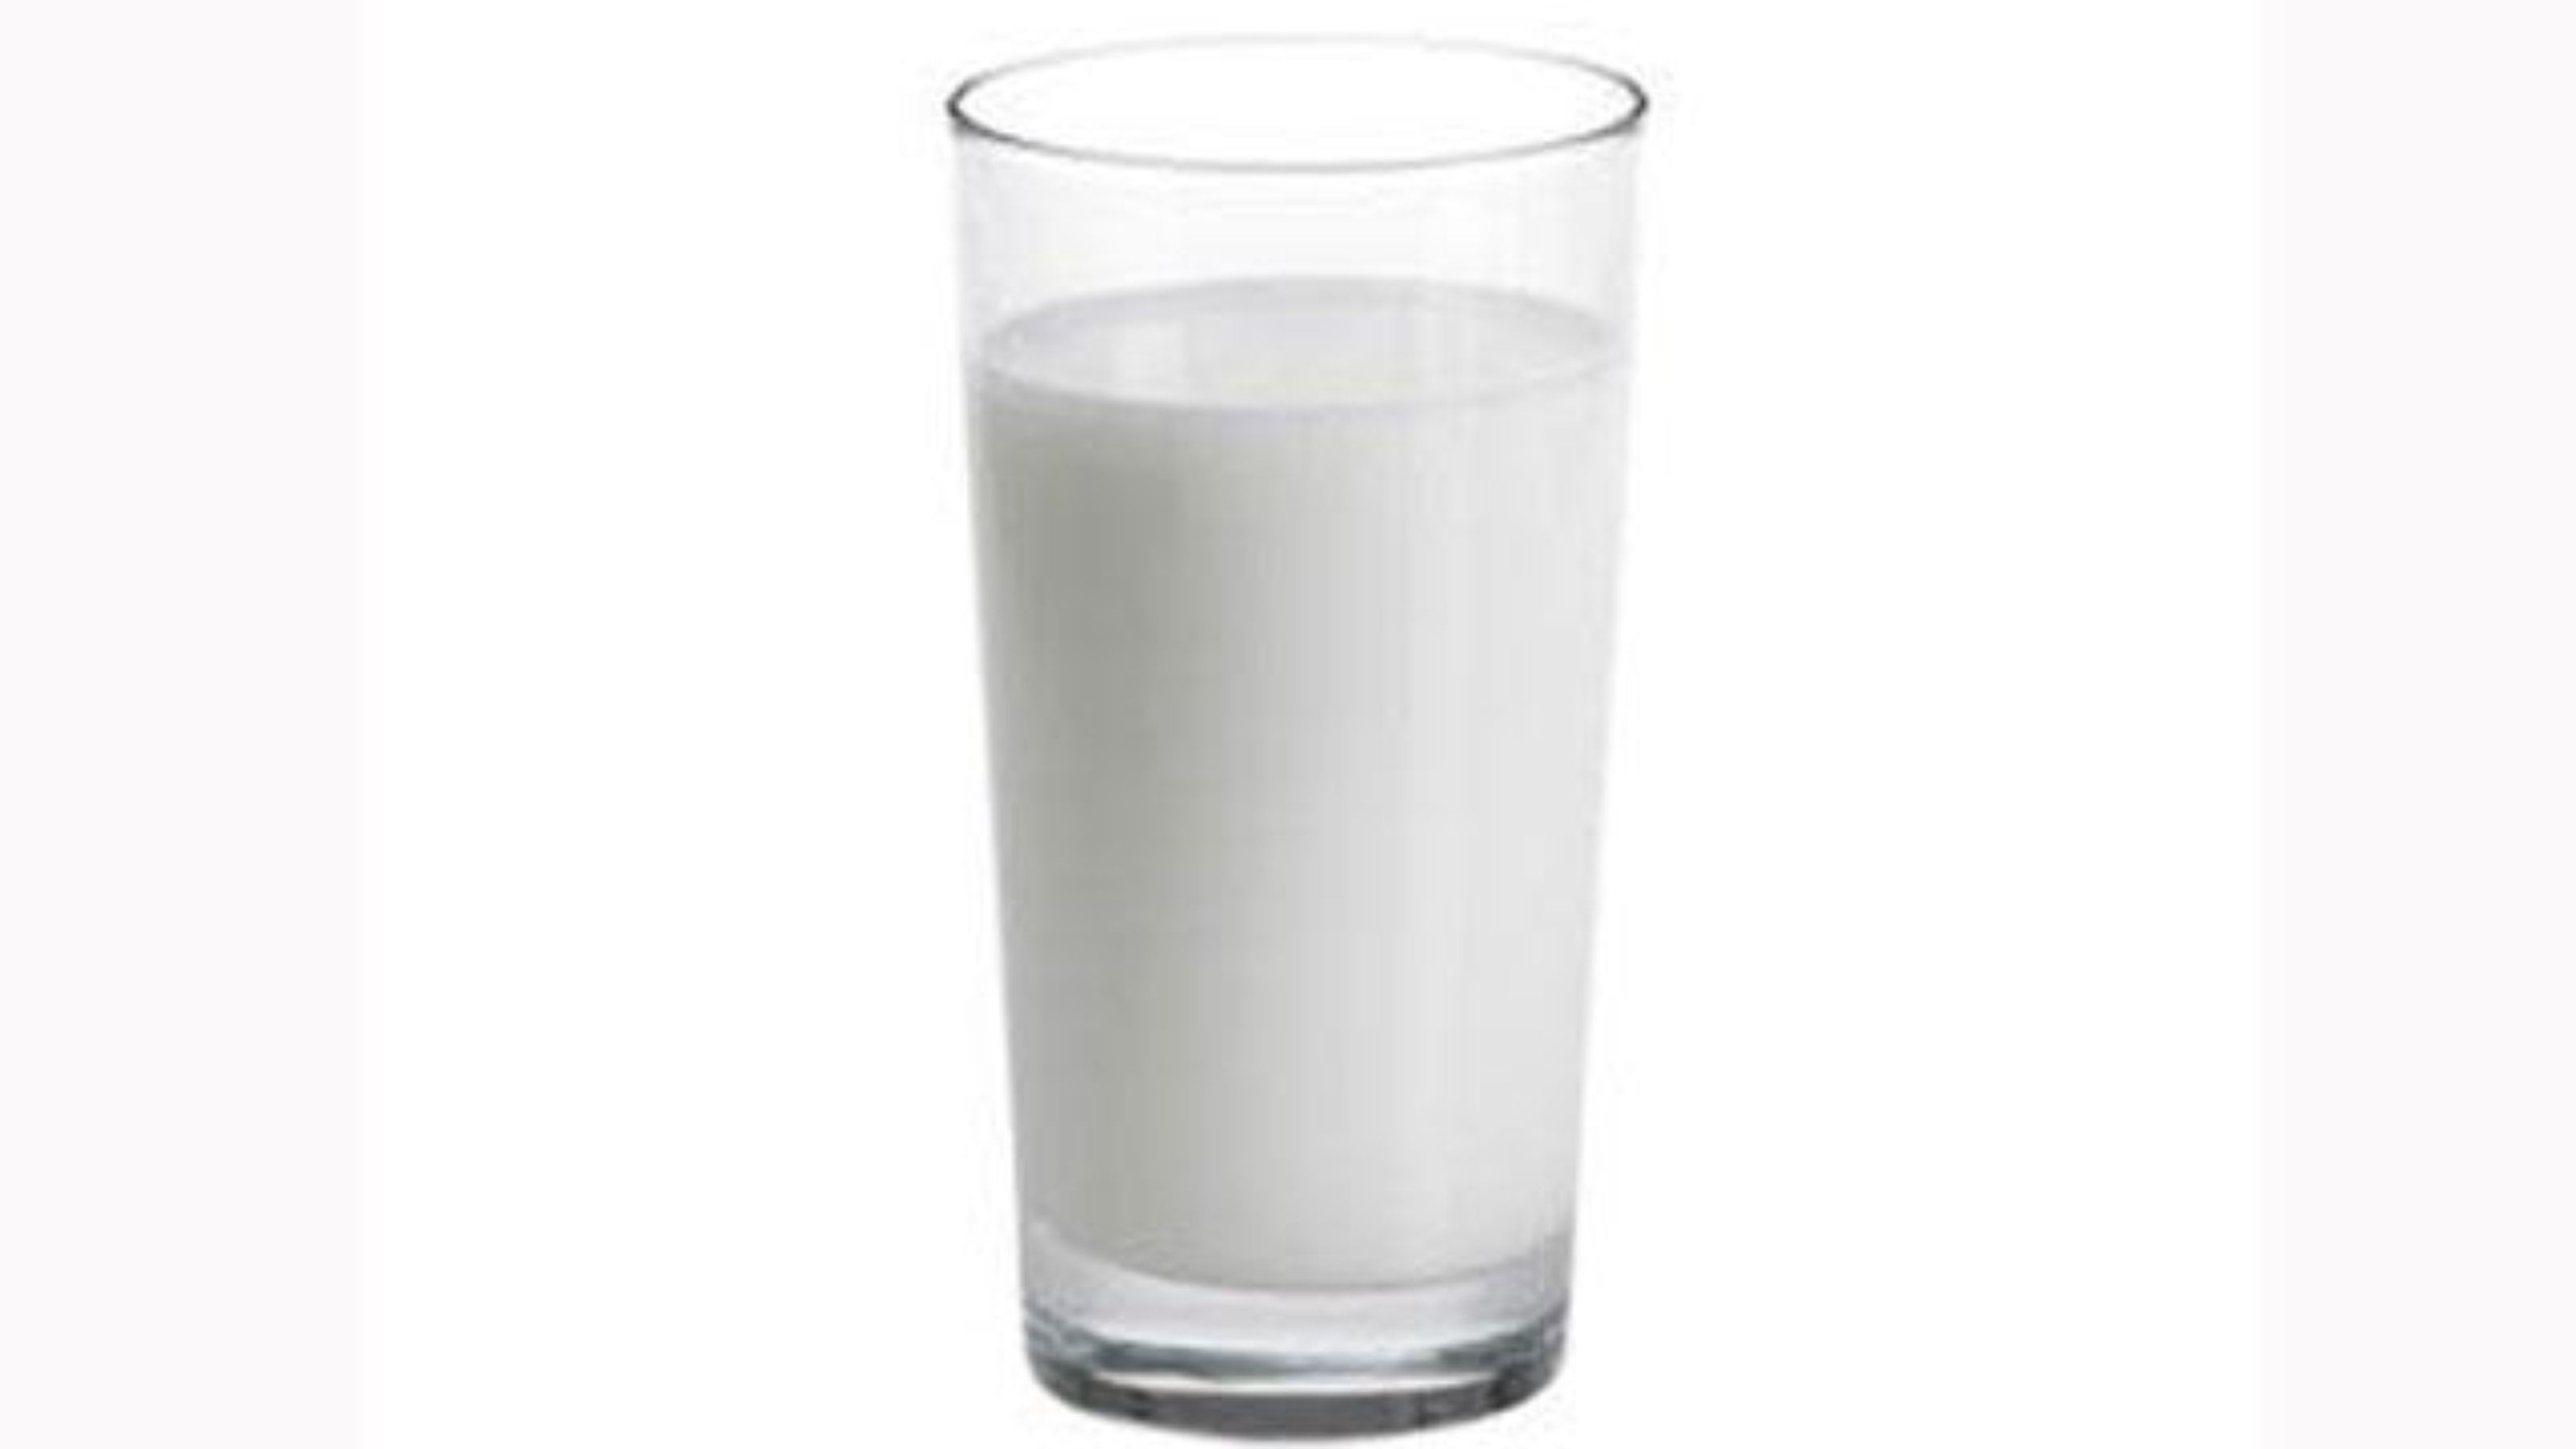glass of milk: (925, 0, 1702, 1449)
